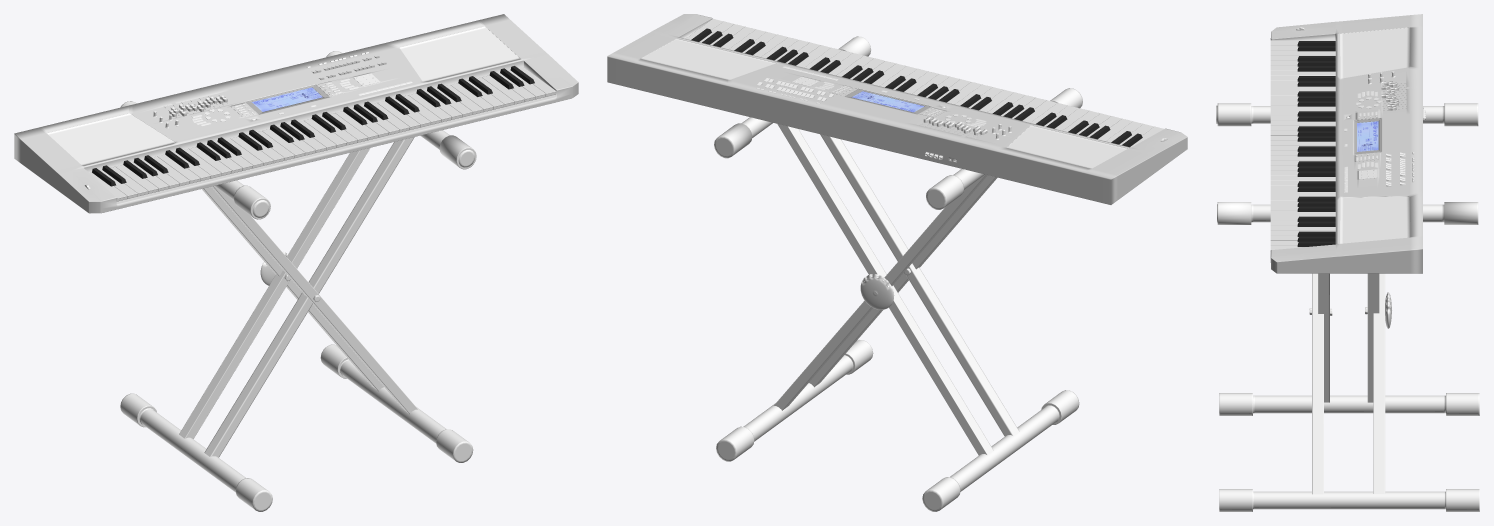
Rendered from keyboard_updated_separatekeys_pbsdf.glb.
The picture shows the model from 3 angles, left to right: view 1: azimuth 30°, elevation 25°; view 2: azimuth 150°, elevation 25°; view 3: azimuth 270°, elevation 25°; orthographic projection. The views are drawn at different scales.
Parts seen in each view (by area): view 1: KeyboardBody, Stand; view 2: KeyboardBody, Stand, Gear; view 3: KeyboardBody, Stand, Key_4E, Key_3E, Key_3B, Key_2E, Key_2B, Key_1E, Key_1B, Key_6E, Key_5E, Key_5B (+1 smaller).
Boxes of the visible parts, left/top/right/bottom form: KeyboardBody: left=14, top=14, right=578, bottom=213; Stand: left=120, top=51, right=476, bottom=511; KeyboardBody: left=607, top=14, right=1187, bottom=204; Stand: left=714, top=36, right=1082, bottom=511; Gear: left=860, top=274, right=894, bottom=309; KeyboardBody: left=1270, top=14, right=1425, bottom=273; Stand: left=1216, top=103, right=1479, bottom=511; Key_4E: left=1270, top=155, right=1335, bottom=160; Key_3E: left=1270, top=120, right=1335, bottom=125; Key_3B: left=1270, top=140, right=1335, bottom=145; Key_2E: left=1270, top=85, right=1335, bottom=90; Key_2B: left=1270, top=105, right=1335, bottom=110; Key_1E: left=1270, top=50, right=1335, bottom=55; Key_1B: left=1270, top=70, right=1335, bottom=75; Key_6E: left=1270, top=225, right=1335, bottom=230; Key_5E: left=1270, top=190, right=1335, bottom=195; Key_5B: left=1270, top=210, right=1335, bottom=215.
Size of the model in its own units: 1.1 by 0.7281 by 0.5199.
23 materials, 1 textured.
